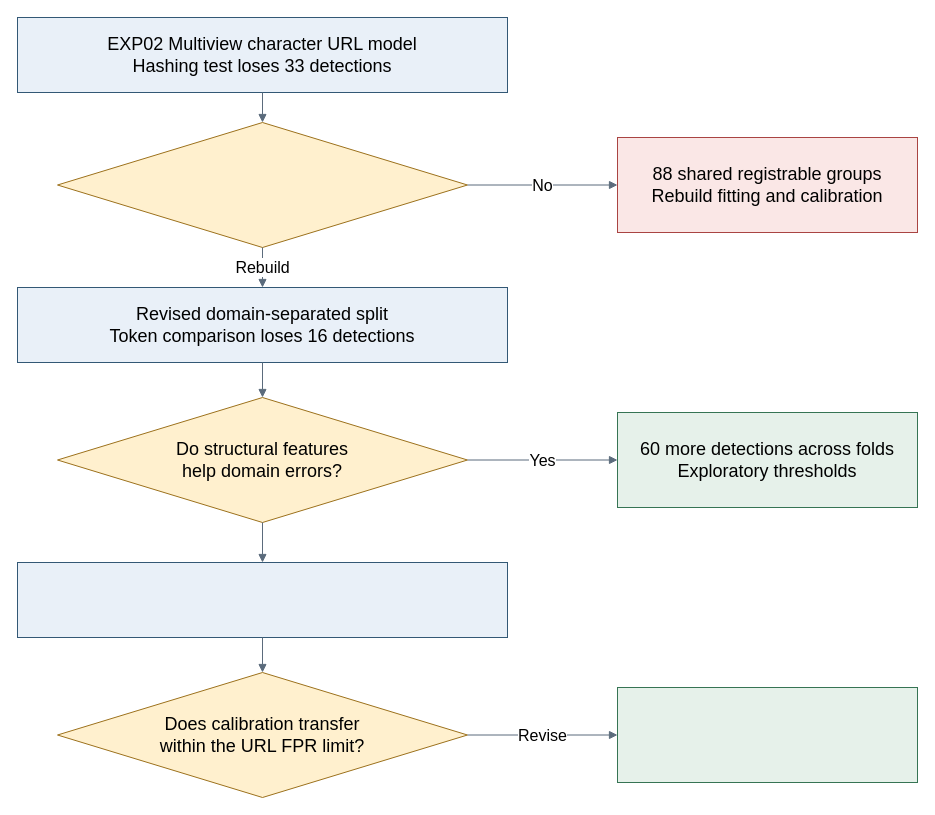
The diagram is 935 pixels wide and 815 high, and some of its shapes have lost their labels. Each missing label, with the box of its shape:
3% setting reaches 6.10% FPR Retain conservative 2% target: (616, 686, 918, 782)
EXP06 Three-way domain experiments Separate fitting, calibration, evaluation: (16, 562, 508, 638)
Is hostname-only grouping sufficient?: (56, 122, 468, 248)
